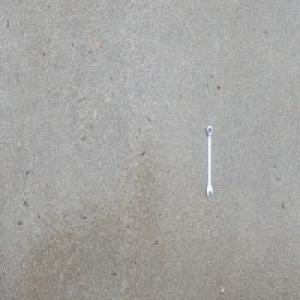Wrench: (205, 124, 213, 199)
